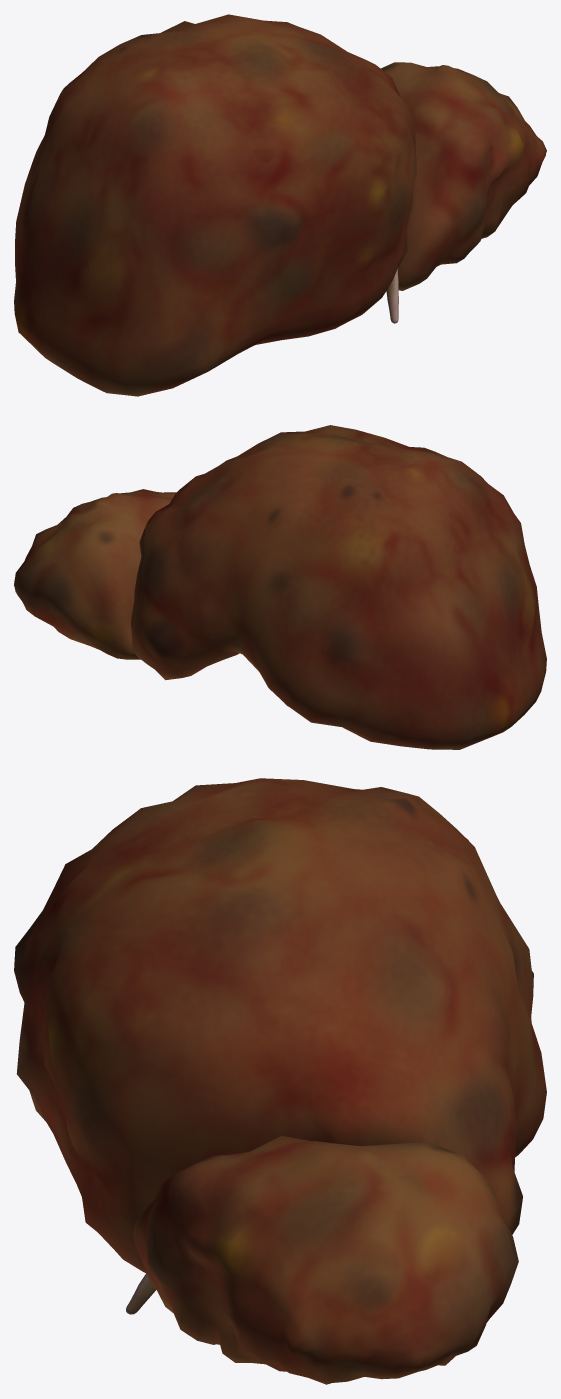
Rendered from cirrotic_liver_modificado.glb.
3 renders of one model, top to bottom at view 1: azimuth 30°, elevation 25°; view 2: azimuth 150°, elevation 25°; view 3: azimuth 270°, elevation 25°, orthographic. The views are drawn at different scales.
Visible parts, largest first — view 1: Object_5.001; view 2: Object_5.001; view 3: Object_5.001.
Part boxes in pixels (x1,y1,x2,y2): Object_5.001: (14,14,546,396); Object_5.001: (14,425,546,749); Object_5.001: (14,778,546,1384).
Size of the model in its own units: 2.48 by 1.3 by 1.45.
3 materials, 3 textured.
